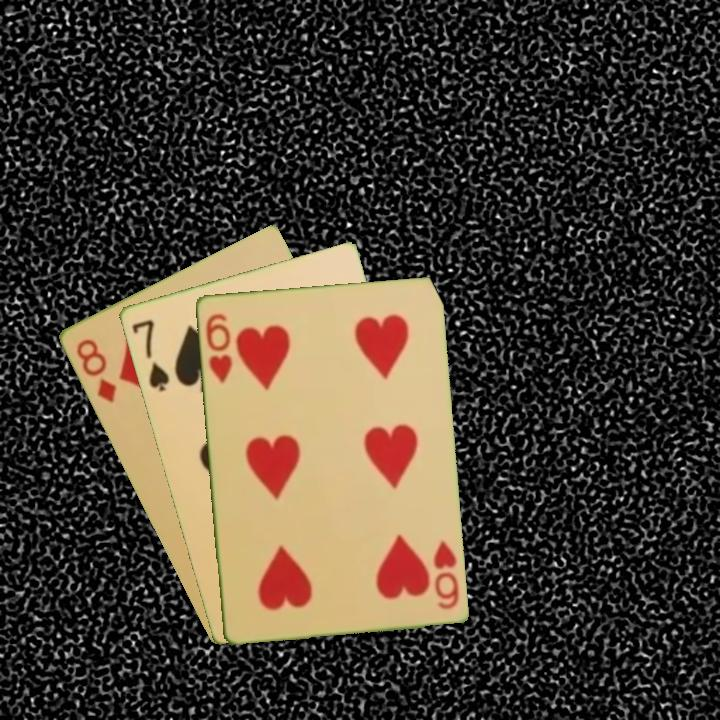6h: (201, 309, 235, 386), (429, 536, 462, 612)
7s: (127, 315, 172, 394)
8d: (72, 335, 119, 406)
